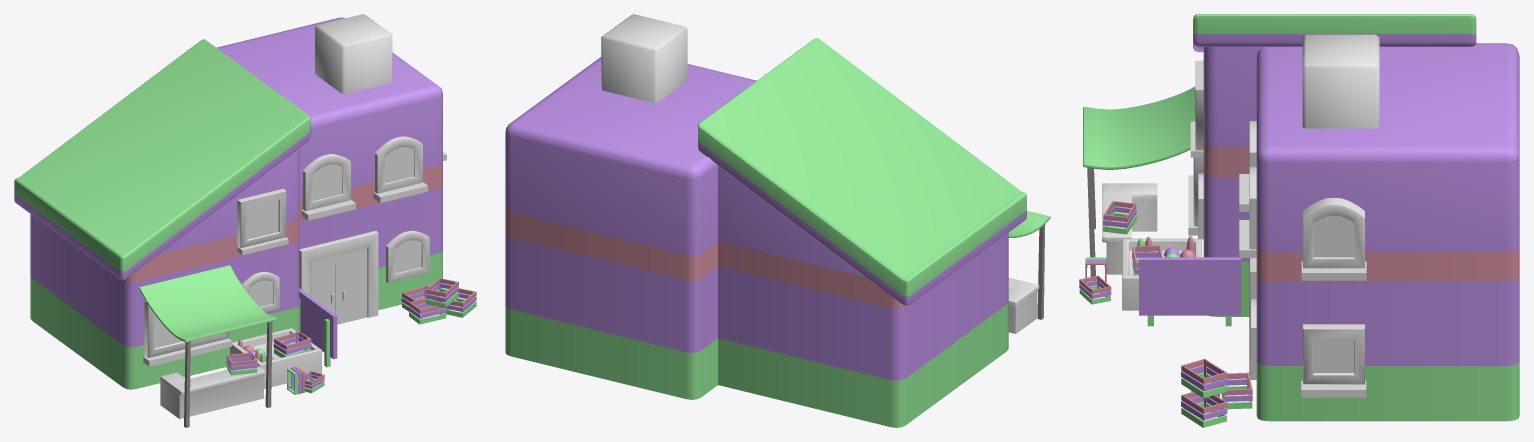
File: Depot.FBX
3 views of the same model, side by side, from view 1: azimuth 30°, elevation 25°; view 2: azimuth 150°, elevation 25°; view 3: azimuth 270°, elevation 25° (orthographic). The views are drawn at different scales.
Parts seen in each view (by area): view 1: toitPentu001, Batiment006, Batiment005, Plane004, Compteur001, Box007, Porte004, PorteCadre004, Box004, Box016, FenetreCadreCarré010, FenetreCadre026 (+18 smaller); view 2: Batiment005, toitPentu001, Batiment006, Compteur001, Box007, Plane004; view 3: Batiment005, Batiment006, toitPentu001, Plane004, Compteur001, Box016, Box007, FenetreCadre022, FenetreCadreCarré009, fenetre032, Box004, fenetre039 (+16 smaller).
Boxes of the visible parts, x1,y1,x2,y2 form: toitPentu001: (14,39,310,280); Batiment006: (30,148,299,389); Batiment005: (216,17,442,309); Plane004: (139,265,276,427); Compteur001: (315,14,392,93); Box007: (160,365,265,418); Porte004: (311,247,367,324); PorteCadre004: (299,231,378,317); Box004: (230,328,321,388); Box016: (299,288,337,367); FenetreCadreCarré010: (237,188,286,248); FenetreCadre026: (375,136,422,193); Batiment005: (505,57,756,399); toitPentu001: (698,38,1026,305); Batiment006: (718,165,1008,427); Compteur001: (601,14,687,102); Box007: (1008,278,1039,333); Plane004: (1008,211,1050,319); Batiment005: (1256,43,1519,421); Batiment006: (1203,47,1265,316); toitPentu001: (1193,14,1476,52); Plane004: (1083,86,1195,280); Compteur001: (1302,34,1379,128); Box016: (1139,257,1240,326); Box007: (1102,183,1157,274); FenetreCadre022: (1303,198,1364,268); FenetreCadreCarré009: (1303,324,1364,384); fenetre032: (1313,215,1354,257); Box004: (1122,238,1201,310); fenetre039: (1313,339,1354,372).
Bounding box in the file's own units: 33.13 × 22.79 × 26.35.
